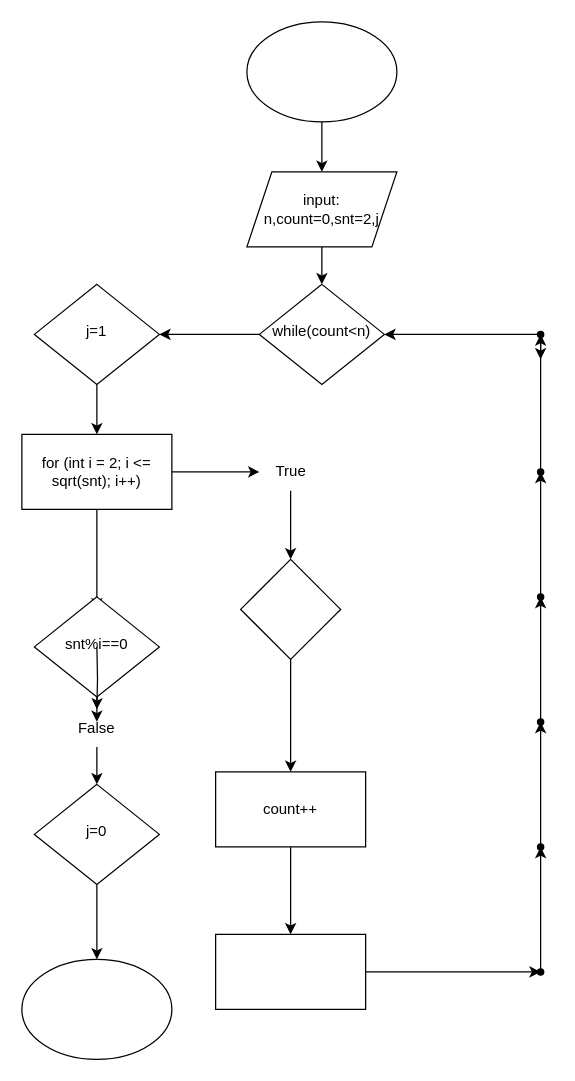
The diagram is 575 pixels wide and 1081 high, and some of its shapes have lost their labels. The shapes that lost their labels are listed below. From the top down, each one's box as (x1, y1, x2, y2) in pixels, then its label:
(246, 21, 397, 122): Start
(239, 558, 341, 659): j==1
(214, 933, 366, 1009): snt++
(21, 958, 172, 1059): end
